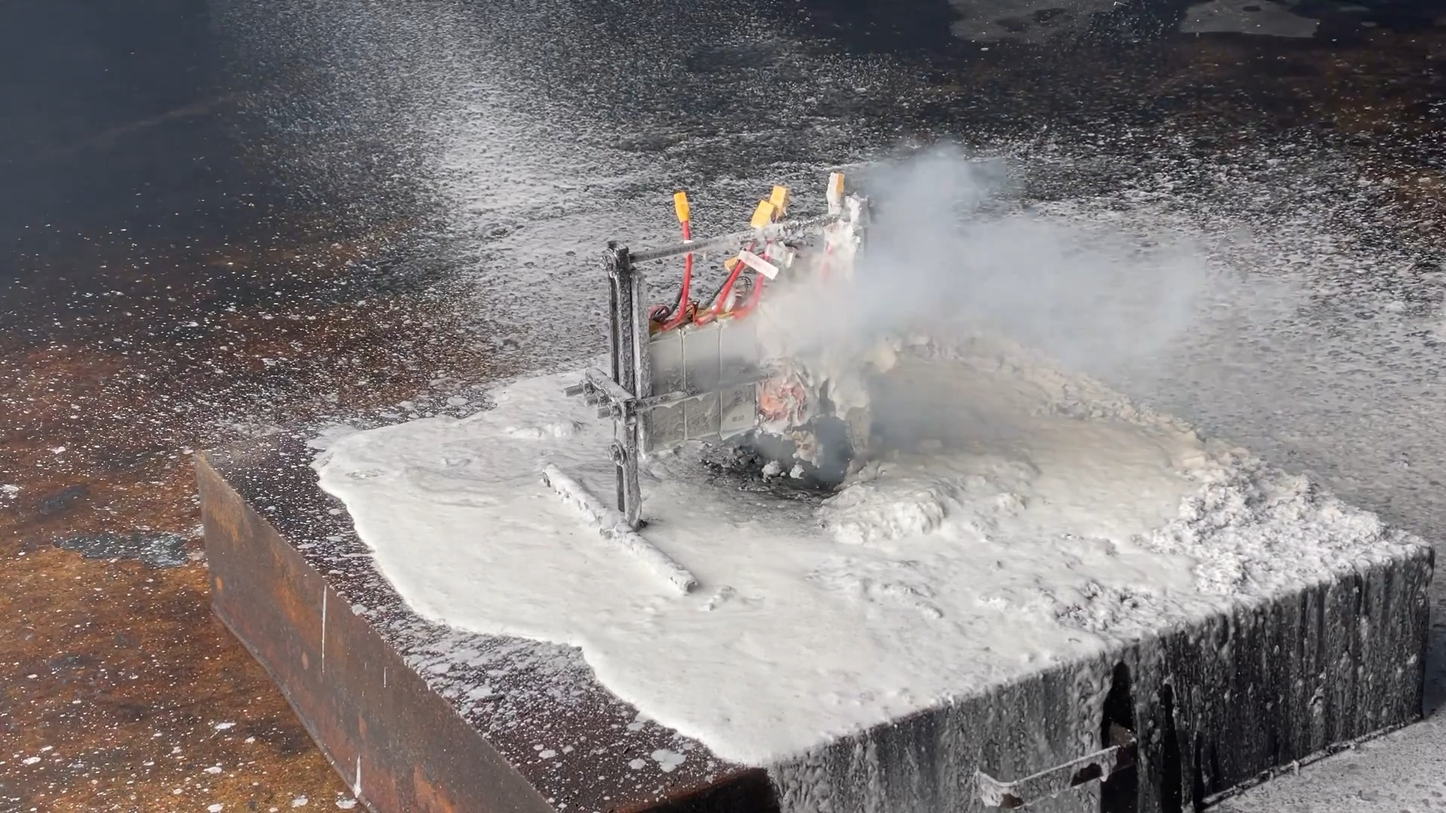smoke: (781, 134, 1222, 414)
